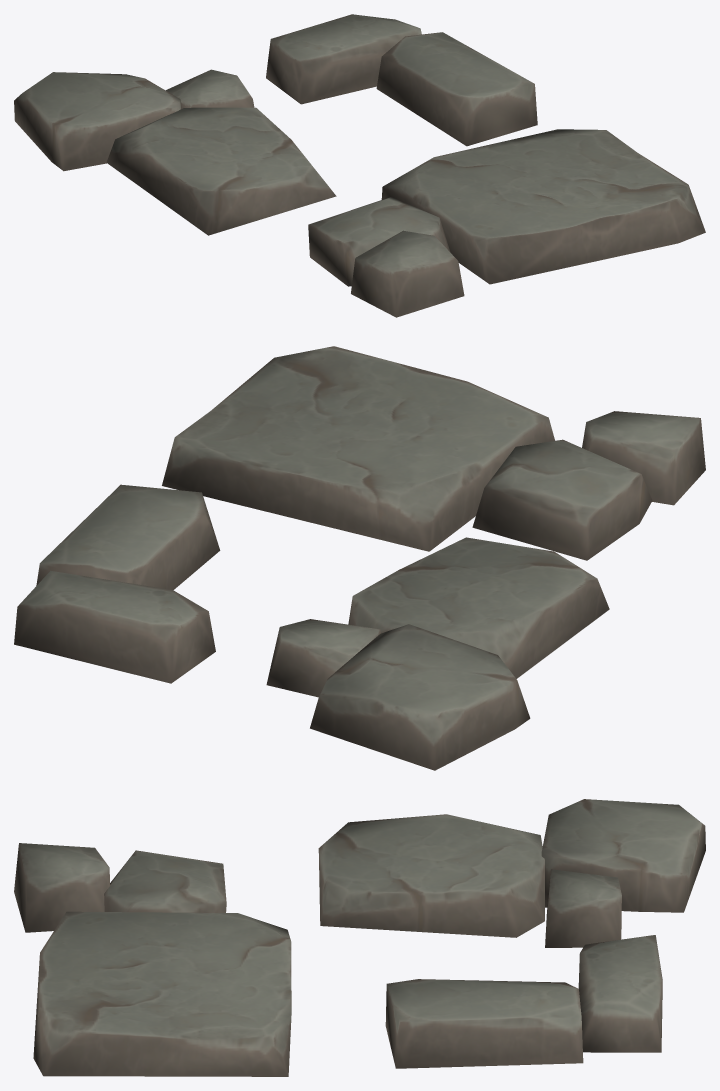
Rendered from SM_FW01_Floor_Tile_Group_08.fbx.
3 views of the same model, one above another, from view 1: azimuth 30°, elevation 25°; view 2: azimuth 150°, elevation 25°; view 3: azimuth 270°, elevation 25° (orthographic). The views are drawn at different scales.
Visible parts, largest first — view 1: SM_FW01_Floor_Tile_Group_08; view 2: SM_FW01_Floor_Tile_Group_08; view 3: SM_FW01_Floor_Tile_Group_08.
Part boxes in pixels (left/top/right/bottom): SM_FW01_Floor_Tile_Group_08: left=14, top=14, right=705, bottom=317; SM_FW01_Floor_Tile_Group_08: left=14, top=346, right=705, bottom=770; SM_FW01_Floor_Tile_Group_08: left=14, top=799, right=705, bottom=1076.
Size of the model in its own units: 1.29 by 0.1555 by 1.61.
